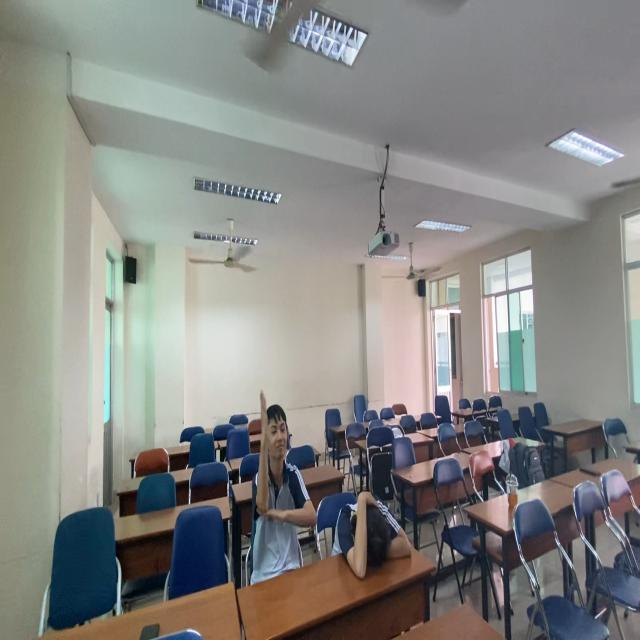raise_hand: (255, 384, 311, 580)
sleep: (330, 486, 414, 577)
